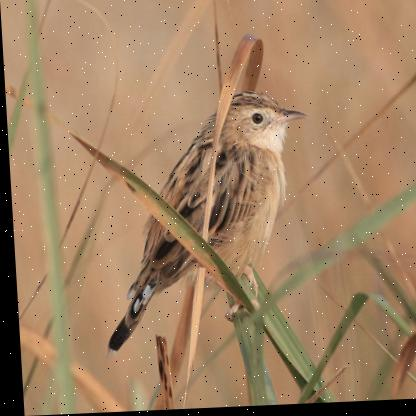Burung: (92, 92, 317, 358)
